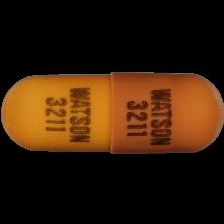0591-3211: (0, 0, 224, 224)
